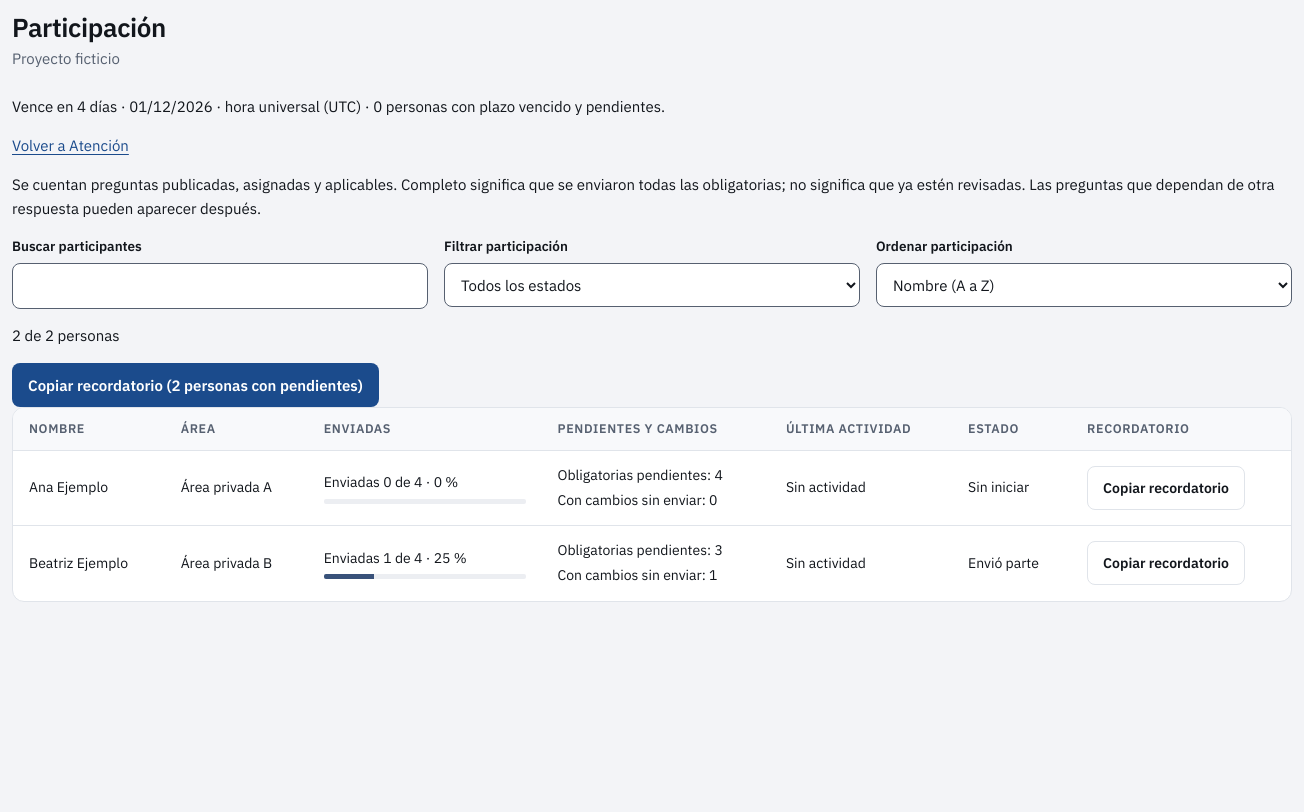
Test case: el recordatorio individual no incluye a otra persona (fallo de portapapeles: false)
expect the table is shown: met, box [13, 408, 1291, 601]
Click the button "Copiar recordatorio" in the row of "Ana Ejemplo".
click(1166, 488)  # box [1087, 466, 1245, 510]
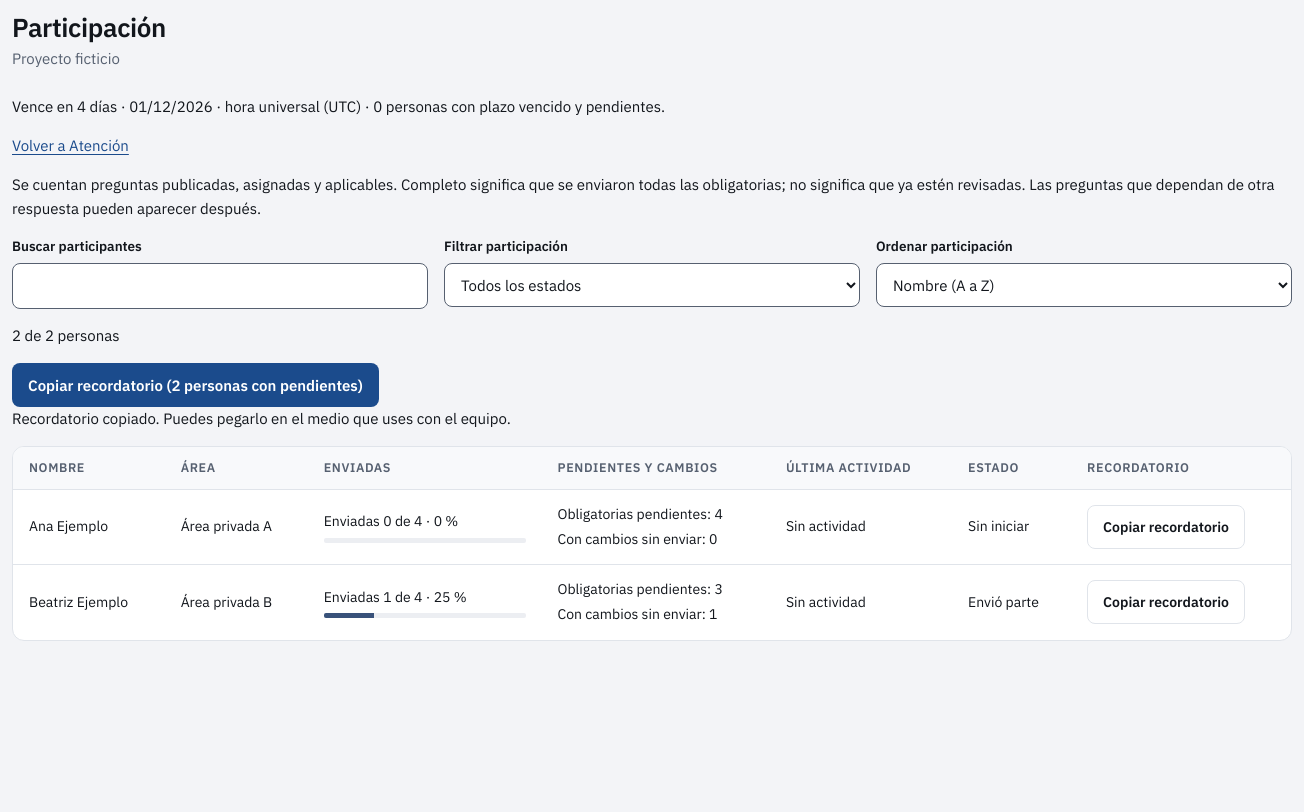
expect the message shows "Recordatorio copiado": met, box [12, 409, 511, 428]
